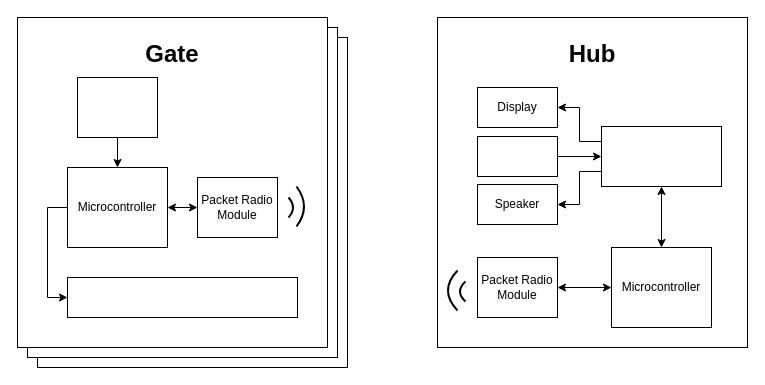
This 765x385 diagram has some shape labels left out. Here are the shapes that lost their labels. From the top down, the box of each, then its label:
(76, 76, 158, 138): Gate Intrusion Sensor
(476, 136, 558, 176): Input
(600, 126, 722, 186): Hub PC
(66, 276, 298, 318): Addressable LED Strip
